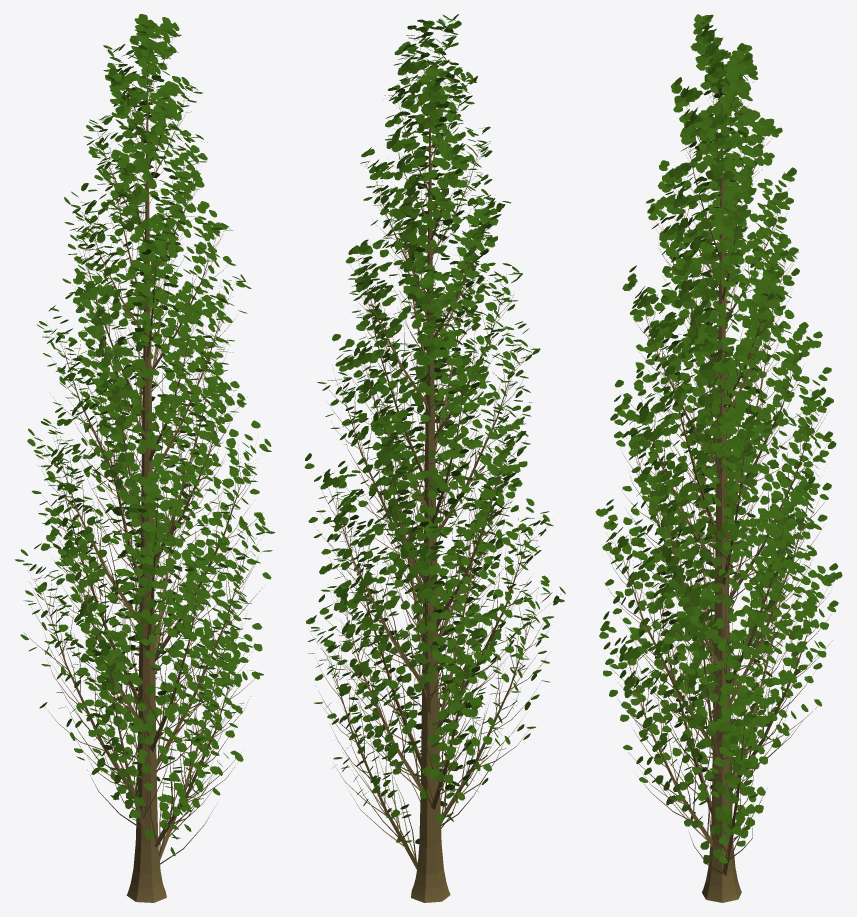
File: lombardyPoplar.obj
3 renders of one model, left to right at view 1: azimuth 30°, elevation 25°; view 2: azimuth 150°, elevation 25°; view 3: azimuth 270°, elevation 25°, orthographic.
Visible parts, largest first — view 1: leaves, leaves2, stems_2, stems_1, trunk; view 2: leaves, leaves2, stems_2, stems_1, trunk; view 3: leaves, leaves2, stems_2, stems_1, trunk.
Part boxes in pixels (x1,y1,x2,y2): leaves: [17, 14, 275, 854]; leaves2: [14, 14, 274, 856]; stems_2: [24, 39, 262, 864]; stems_1: [43, 40, 247, 860]; trunk: [126, 64, 166, 902]; leaves: [305, 15, 564, 844]; leaves2: [304, 14, 565, 843]; stems_2: [313, 32, 560, 862]; stems_1: [329, 40, 533, 869]; trunk: [411, 80, 450, 902]; leaves: [595, 14, 842, 864]; leaves2: [597, 14, 841, 863]; stems_2: [605, 56, 832, 873]; stems_1: [619, 62, 816, 875]; trunk: [702, 79, 741, 902].
Size of the model in its own units: 7 by 25.85 by 6.62.
